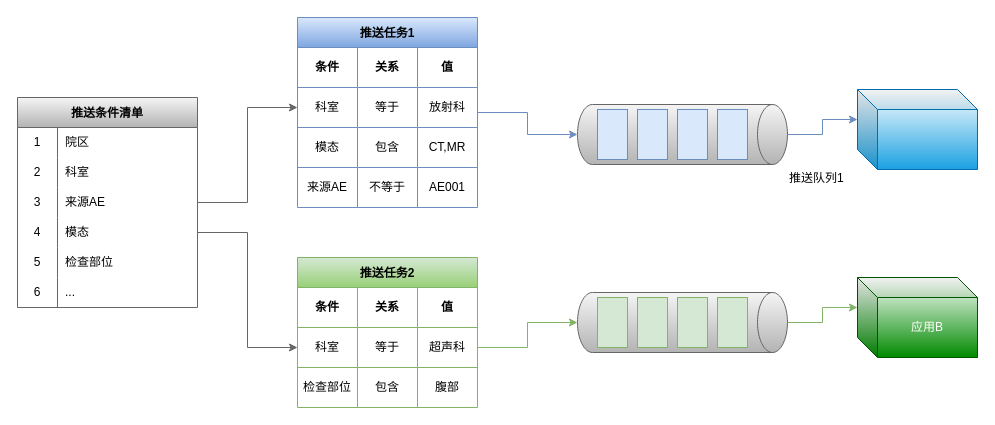
The diagram is 995 pixels wide and 425 high, and some of its shapes have lost their labels. The box of each missing label's shape, as (x1, y1, x2, y2) in pixels:
应用A: (856, 88, 978, 170)
推送队列2: (576, 292, 788, 352)
